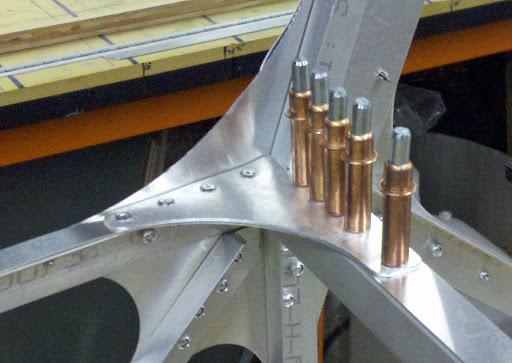bolt: (426, 239, 444, 258)
rivet: (158, 195, 177, 208), (114, 210, 133, 223), (200, 181, 218, 194), (240, 168, 256, 181)
screw: (176, 331, 194, 355), (139, 227, 160, 246), (215, 277, 232, 297), (289, 260, 307, 277), (232, 248, 246, 267), (282, 293, 296, 309), (479, 270, 490, 283)
